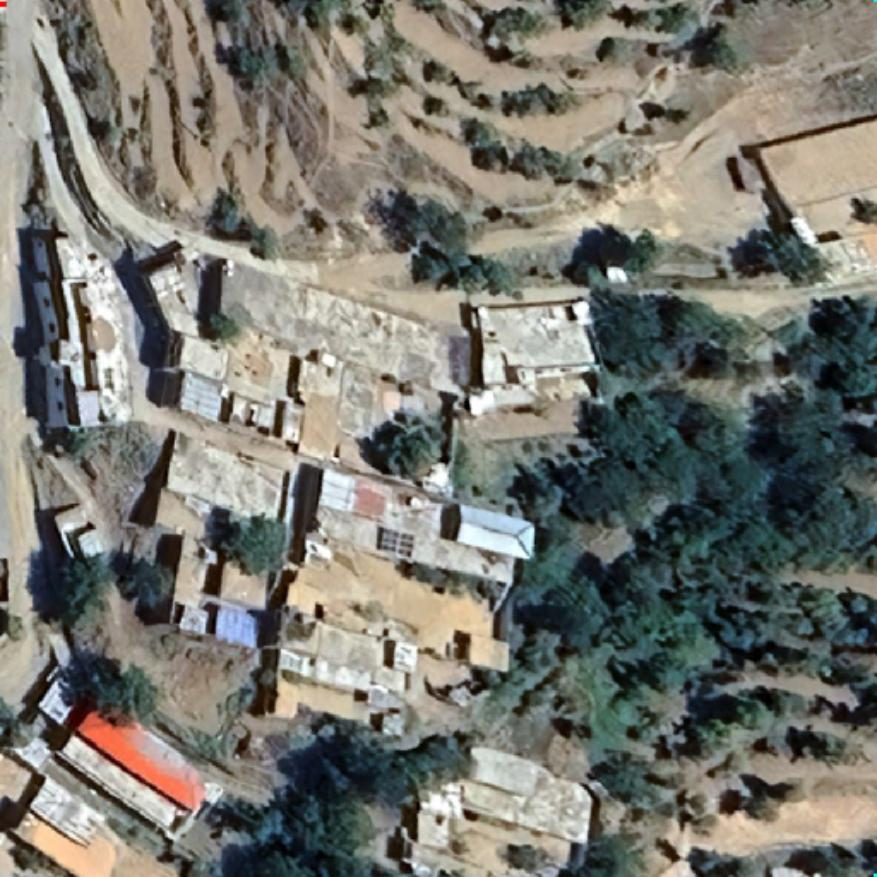Solarpanel: (375, 524, 417, 560)
